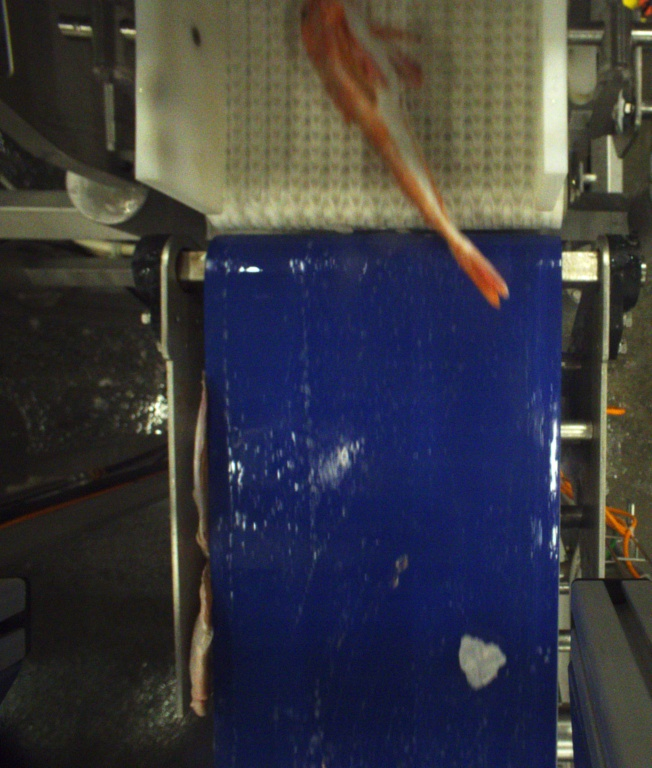GUU: (297, 0, 512, 312)
